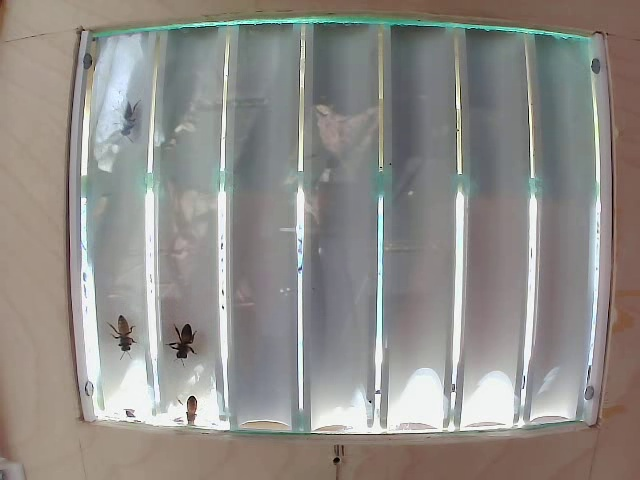bee: (177, 382, 208, 429), (103, 307, 135, 351), (168, 325, 199, 368), (107, 89, 133, 135)
